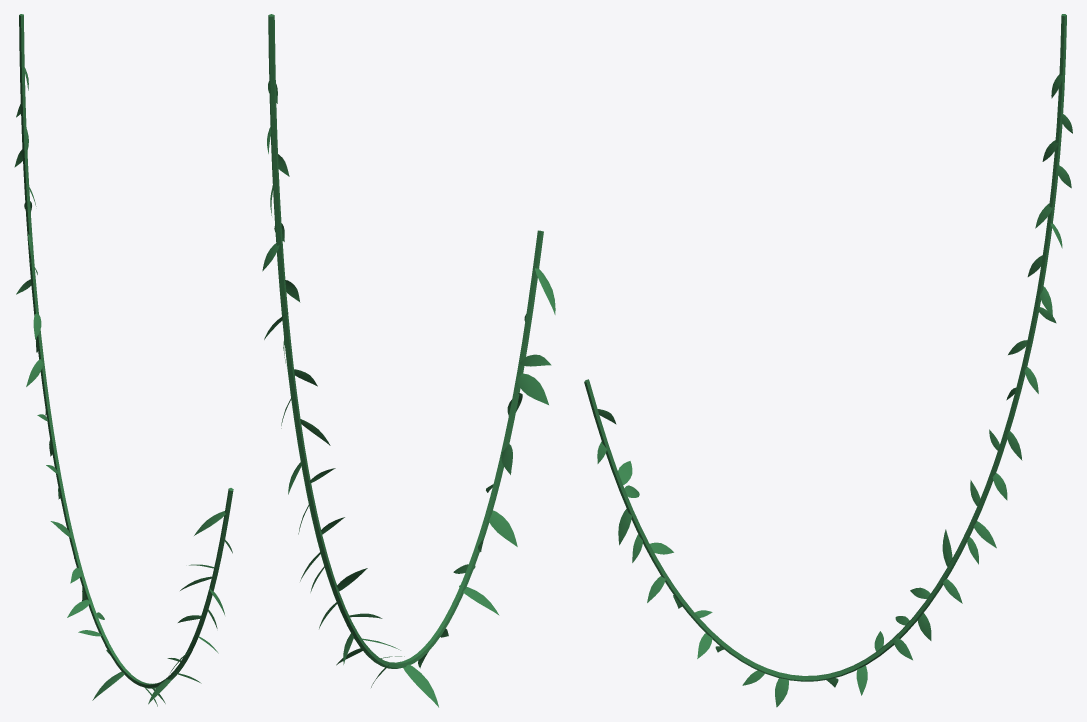
Rendered from vine_hori_E_scanden.fbx.
3 renders of one model, left to right at view 1: azimuth 30°, elevation 25°; view 2: azimuth 150°, elevation 25°; view 3: azimuth 270°, elevation 25°, orthographic. The views are drawn at different scales.
Parts seen in each view (by area): view 1: vine_hori_E_scanden_root; view 2: vine_hori_E_scanden_root, vine_scanden_A_leaf_A148, vine_scanden_A_leaf_A184, vine_scanden_A_leaf_A169; view 3: vine_hori_E_scanden_root.
Part boxes in pixels (bbox=[...]): vine_hori_E_scanden_root: bbox=[19, 14, 233, 688]; vine_hori_E_scanden_root: bbox=[268, 14, 543, 668]; vine_scanden_A_leaf_A148: bbox=[517, 373, 548, 404]; vine_scanden_A_leaf_A184: bbox=[489, 510, 517, 546]; vine_scanden_A_leaf_A169: bbox=[403, 664, 438, 707]; vine_hori_E_scanden_root: bbox=[584, 14, 1066, 681].
Size of the model in its own units: 35.21 by 411 by 264.
